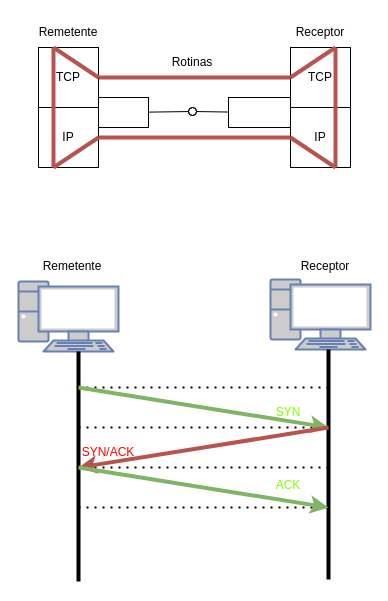
The diagram is 388 pixels wide and 601 high, and some of its shapes have lost their labels. Each missing label, with the box of its shape:
Porta 22: (98, 96, 148, 128)
Porta 2323: (228, 96, 290, 128)
